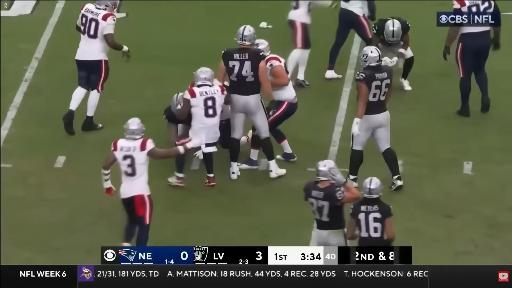Helmet: (316, 160, 345, 185), (124, 118, 145, 139), (361, 46, 381, 68), (384, 19, 402, 43), (362, 177, 382, 198), (316, 160, 337, 180), (235, 26, 256, 45), (194, 68, 214, 85), (95, 0, 118, 12), (254, 39, 270, 56), (171, 93, 184, 112)
Jersey: (112, 138, 154, 198), (184, 85, 226, 144), (76, 4, 115, 60), (222, 47, 265, 96), (350, 198, 392, 246), (304, 181, 345, 230), (356, 65, 392, 115), (372, 18, 410, 45), (453, 0, 495, 14), (288, 0, 312, 24), (266, 55, 289, 78), (340, 0, 367, 15), (220, 102, 230, 121)
Player: (102, 118, 187, 246), (217, 26, 286, 179), (63, 0, 130, 135), (349, 47, 403, 190), (443, 0, 500, 117), (177, 68, 227, 186), (255, 40, 297, 161), (304, 160, 361, 246), (325, 1, 376, 79), (288, 1, 333, 87), (347, 177, 395, 246), (372, 18, 414, 90), (164, 93, 191, 145)
